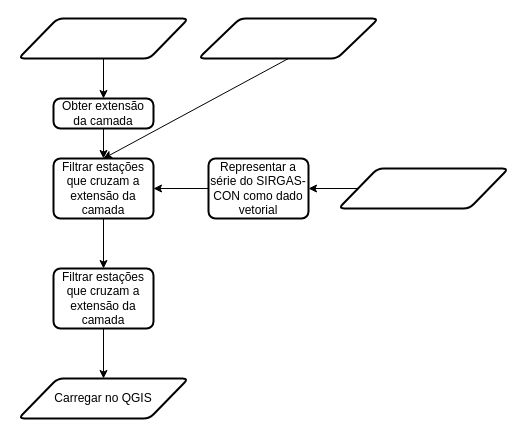
The diagram is 526 pixels wide and 436 high, and some of its shapes have lost their labels. Here are the shapes that lost their labels. From the top down, the box of each, then its label:
(17, 17, 189, 59): Escolher camada carregada no QGIS
(197, 17, 379, 59): Escolher data (entre as disponíveis)
(337, 167, 509, 209): Oter série temporal do SIRGAS-CON
